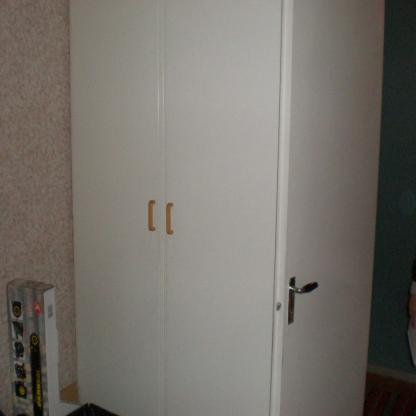door: (283, 0, 387, 415)
lever: (293, 281, 323, 299)
